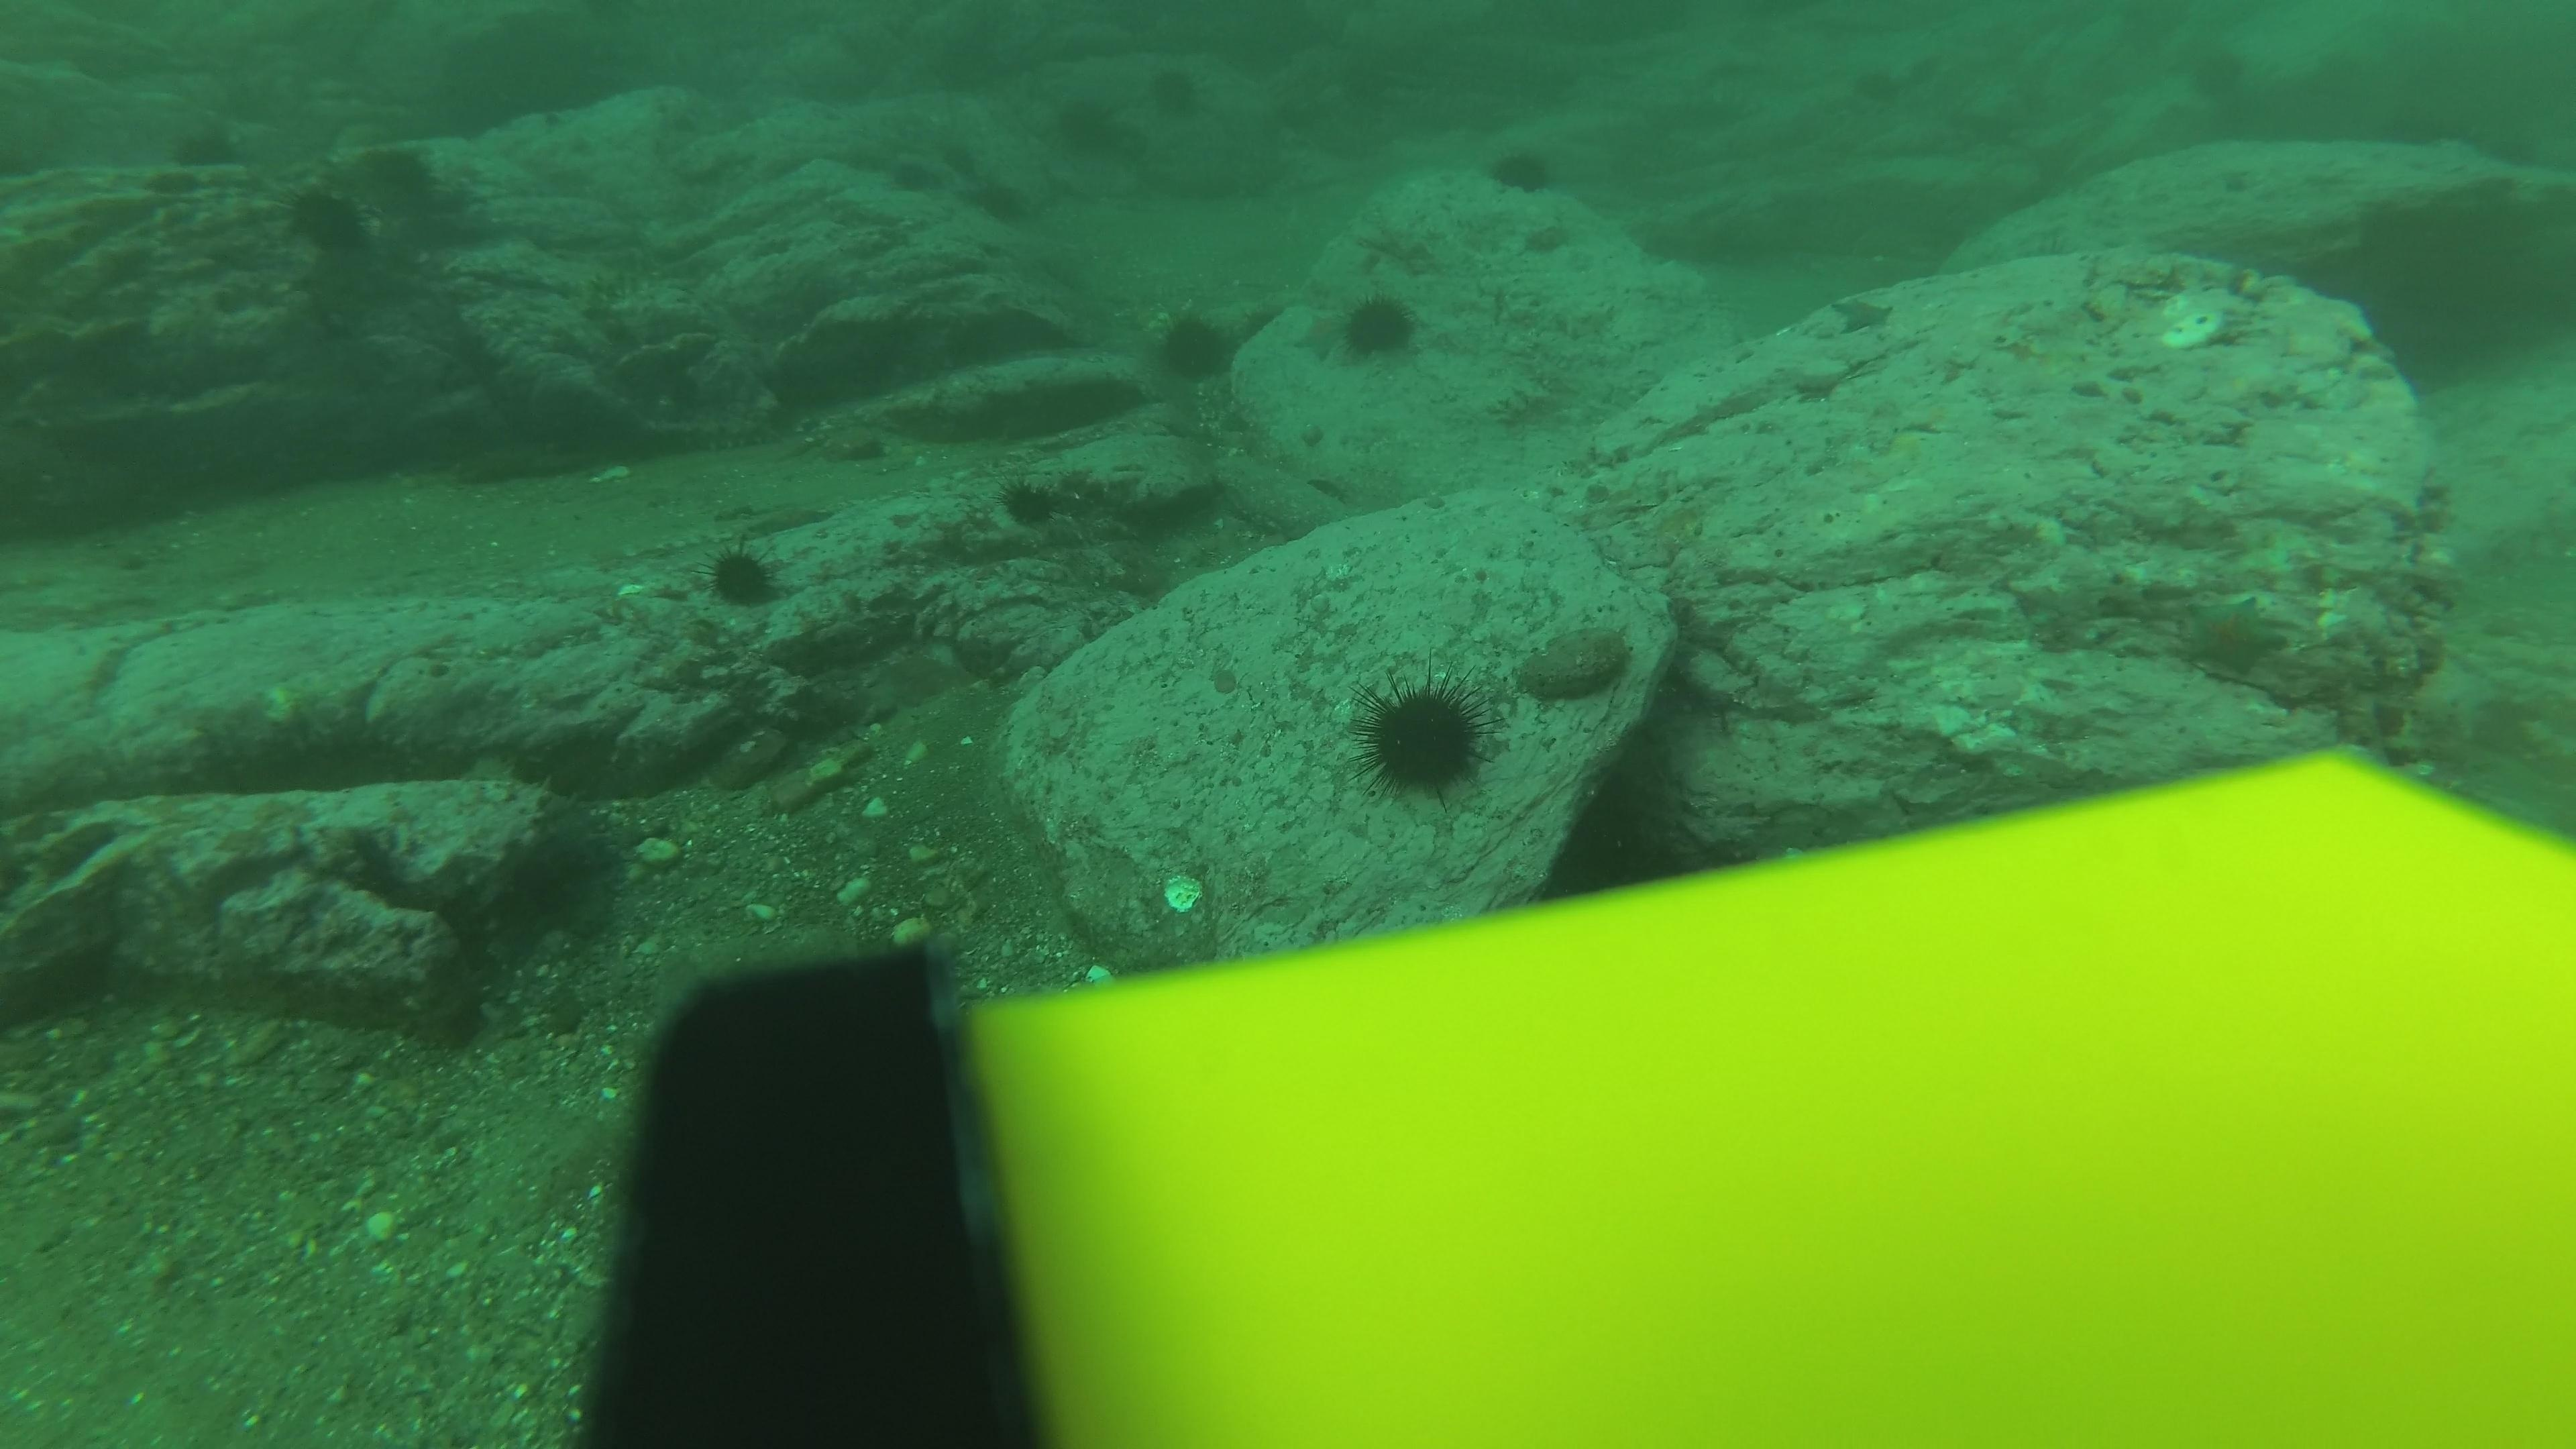echinus: (1350, 671, 1495, 803), (1322, 283, 1428, 372), (280, 177, 377, 262), (1148, 303, 1242, 387), (695, 536, 791, 616), (1481, 138, 1560, 200), (996, 472, 1065, 533), (1065, 97, 1131, 152), (370, 152, 446, 193), (1152, 73, 1212, 119), (172, 138, 244, 173), (970, 179, 1024, 216), (893, 157, 932, 193), (947, 145, 980, 170)
starfish: (2171, 591, 2293, 683), (1828, 287, 1898, 336), (1516, 216, 1576, 262)
